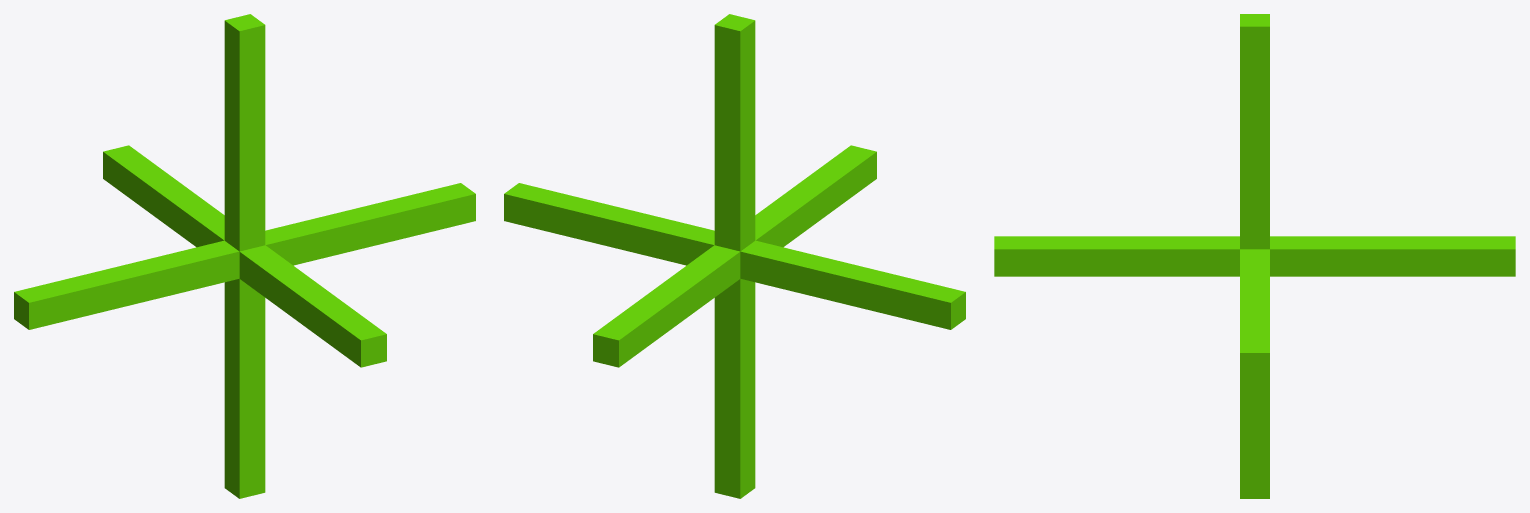
The model's file is HelperLocator.fbx.
3 renders of one model, left to right at view 1: azimuth 30°, elevation 25°; view 2: azimuth 150°, elevation 25°; view 3: azimuth 270°, elevation 25°, orthographic.
Parts seen in each view (by area): view 1: pCube36; view 2: pCube36; view 3: pCube36.
Part boxes in pixels (box(x1,y1,x2,y2)): pCube36: box(14, 14, 475, 498); pCube36: box(504, 14, 965, 498); pCube36: box(994, 14, 1515, 498).
Size of the model in its own units: 1.13 by 1.13 by 1.13.
